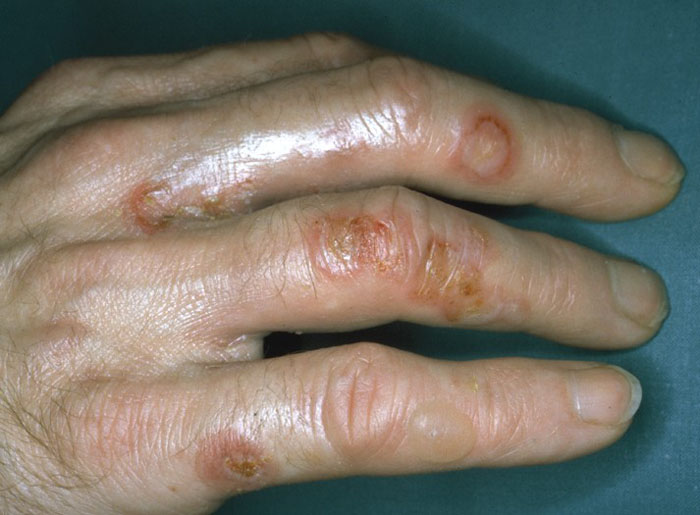Impetigo: (129, 122, 515, 484)
